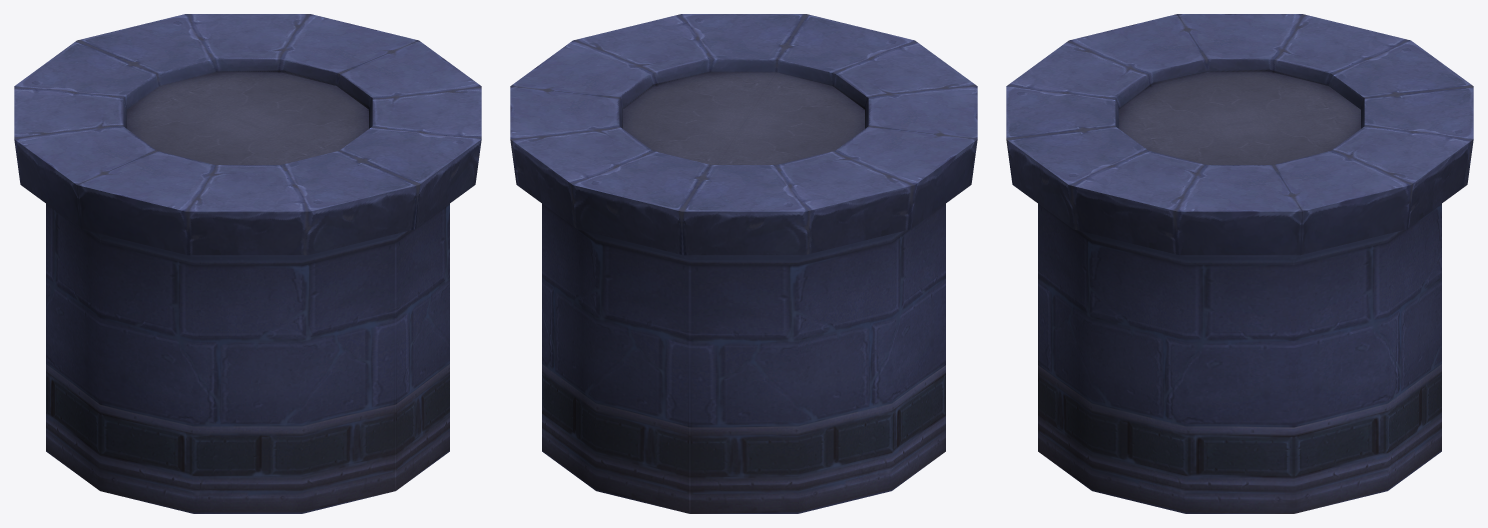
Rendered from Area09_10.fbx.
3 renders of one model, left to right at view 1: azimuth 30°, elevation 25°; view 2: azimuth 150°, elevation 25°; view 3: azimuth 270°, elevation 25°, orthographic.
Parts seen in each view (by area): view 1: Area09_10; view 2: Area09_10; view 3: Area09_10.
Part boxes in pixels (x1,y1,x2,y2): Area09_10: (14, 14, 481, 513); Area09_10: (510, 14, 977, 513); Area09_10: (1006, 14, 1473, 513).
Bounding box in the file's own units: 173 × 130 × 173.
1 material, 1 textured.
